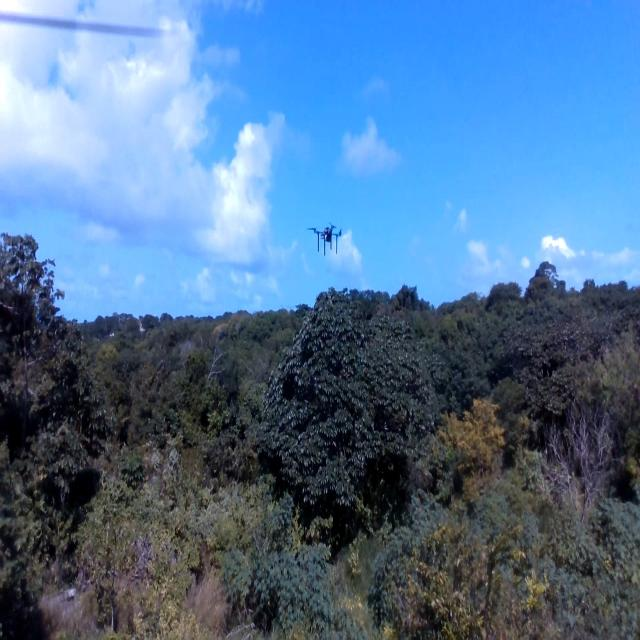-uav-: (306, 211, 348, 261)
